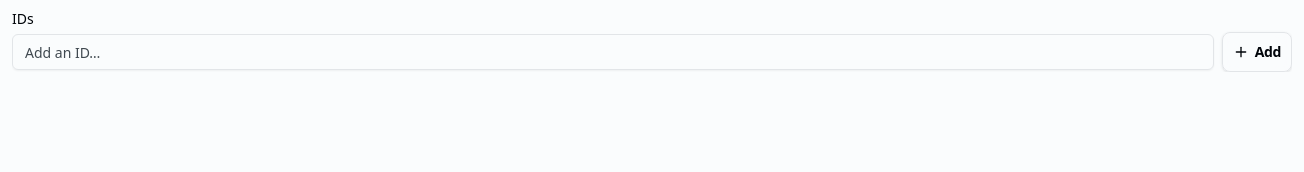
Test: ScalarListField › dedupes and rejects non-numbers
This screenshot has width=1304, height=172.
Type "7" into the field labelled "IDs" at (613, 52), box top-left (12, 34), bottom-right (1214, 70)
Then press Enter
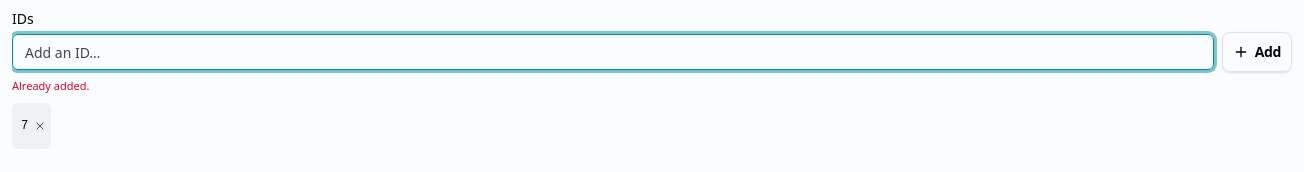
Type "abc" into the field labelled "IDs" at (613, 52), box top-left (12, 34), bottom-right (1214, 70)
Then press Enter
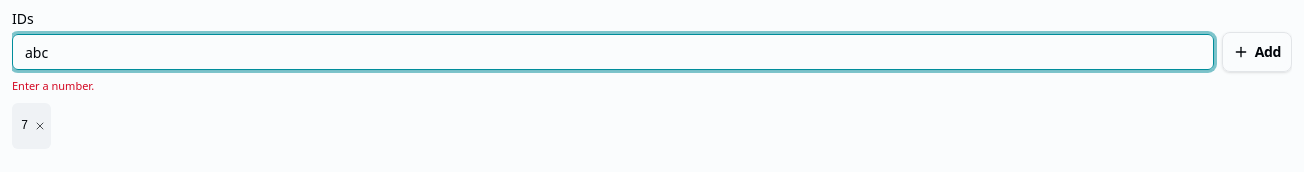
expect the text "Enter a number." is shown: met, box top-left (12, 78), bottom-right (94, 93)
